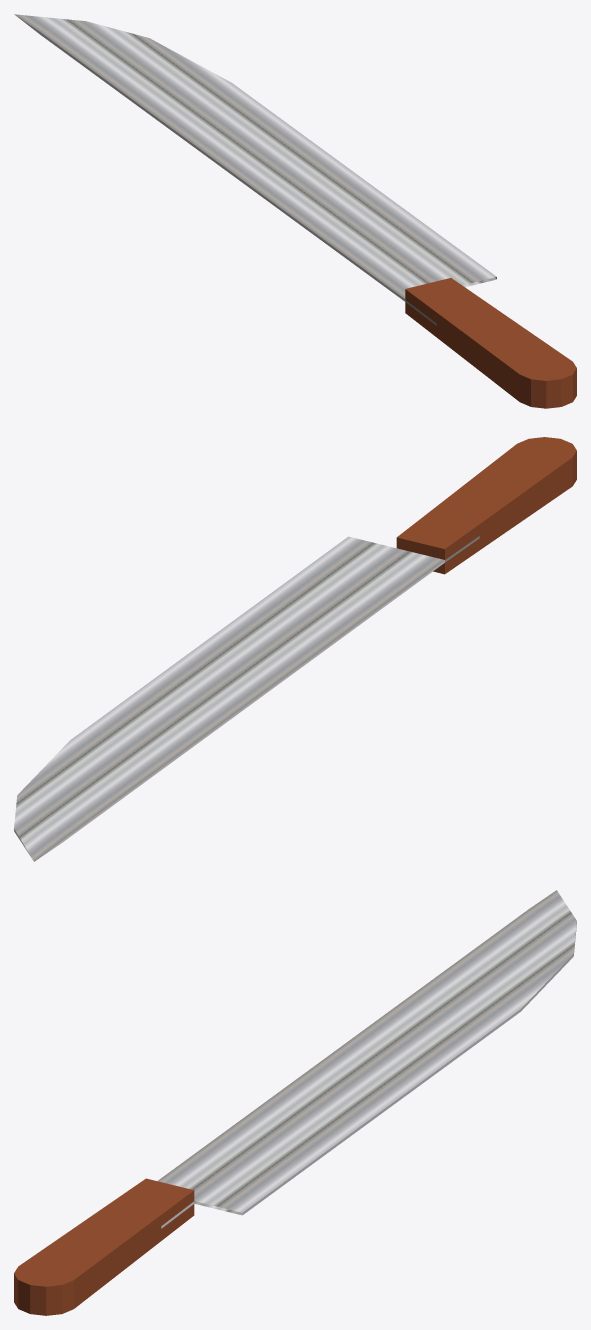
Rendered from cuchillo.fbx.
The picture shows the model from 3 angles, top to bottom: view 1: azimuth 30°, elevation 25°; view 2: azimuth 150°, elevation 25°; view 3: azimuth 330°, elevation 25°; orthographic projection. The views are drawn at different scales.
Parts seen in each view (by area): view 1: Cubo; view 2: Cubo; view 3: Cubo.
Part boxes in pixels (x1,y1,x2,y2): Cubo: (14,14,576,408); Cubo: (14,437,576,861); Cubo: (14,890,576,1315).
Bounding box in the file's own units: 4.15 × 1.15 × 39.56.
2 materials, 1 textured.
